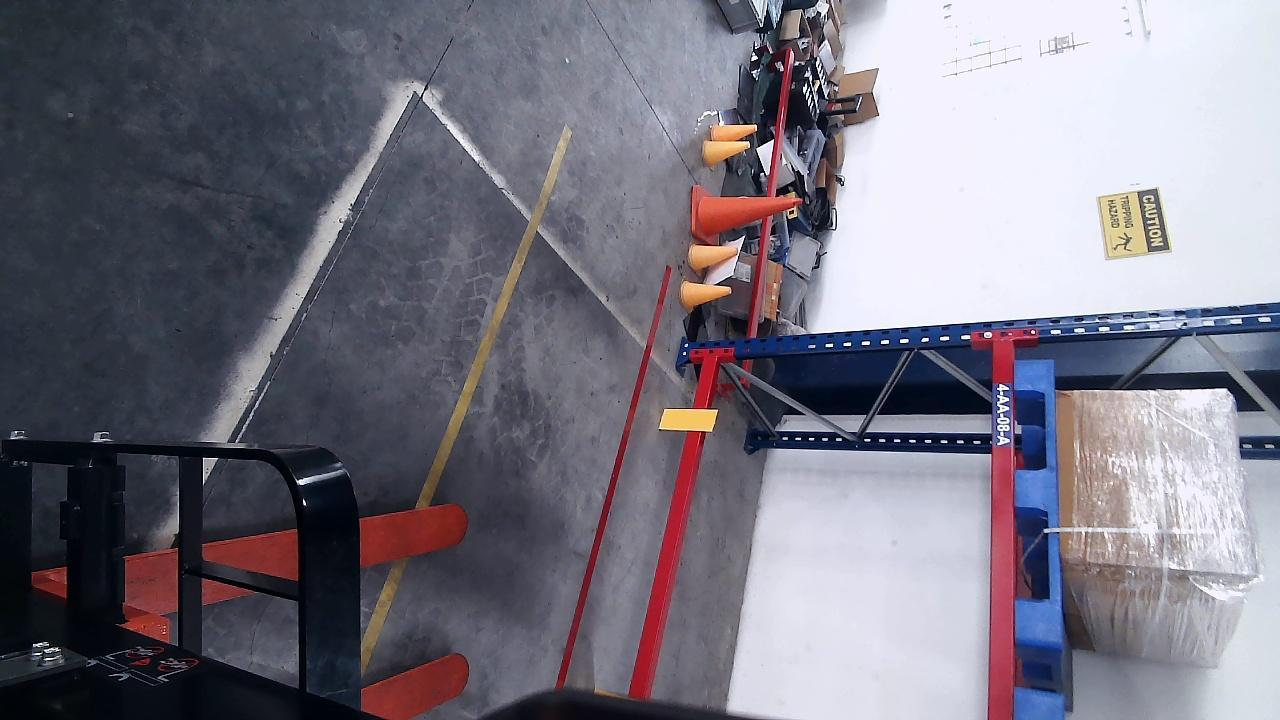h_rack: (628, 354, 720, 699), (986, 339, 1013, 720)
orange_strip: (656, 407, 718, 431)
red_line: (558, 264, 673, 685)
small_pallet: (1010, 359, 1059, 645), (1013, 689, 1066, 720)
yellow_line: (361, 122, 576, 673)
